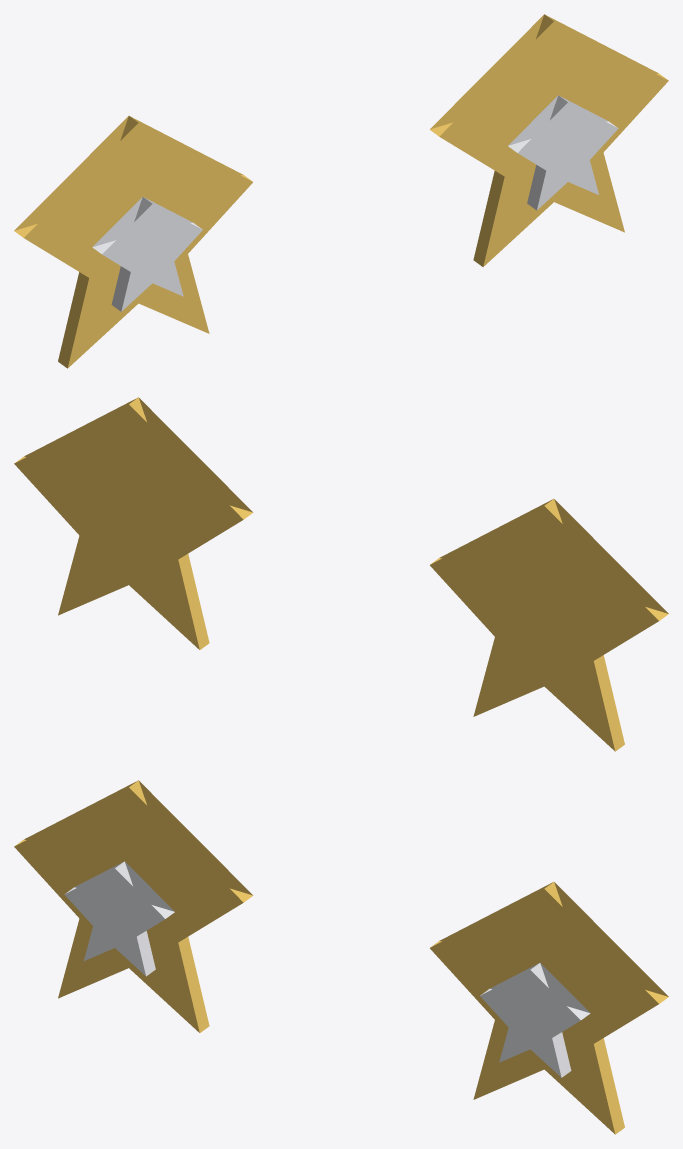
The model's file is star-eyes.glb.
3 views of the same model, one above another, from view 1: azimuth 30°, elevation 25°; view 2: azimuth 150°, elevation 25°; view 3: azimuth 330°, elevation 25° (orthographic).
Visible parts, largest first — view 1: golden star eye (×2), inner sparkle (×2); view 2: golden star eye (×2); view 3: golden star eye (×2), inner sparkle (×2).
Part boxes in pixels (x1,y1,x2,y2): golden star eye (×2): (14,14,668,368); inner sparkle (×2): (92,95,618,311); golden star eye (×2): (14,397,668,751); golden star eye (×2): (14,780,668,1134); inner sparkle (×2): (64,861,590,1077).
Bounding box in the file's own units: 1.34 × 0.4523 × 0.085.
